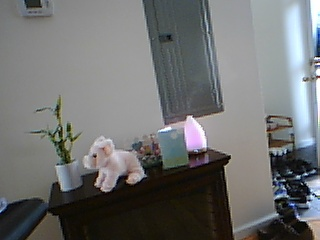piggy: (82, 135, 146, 194)
